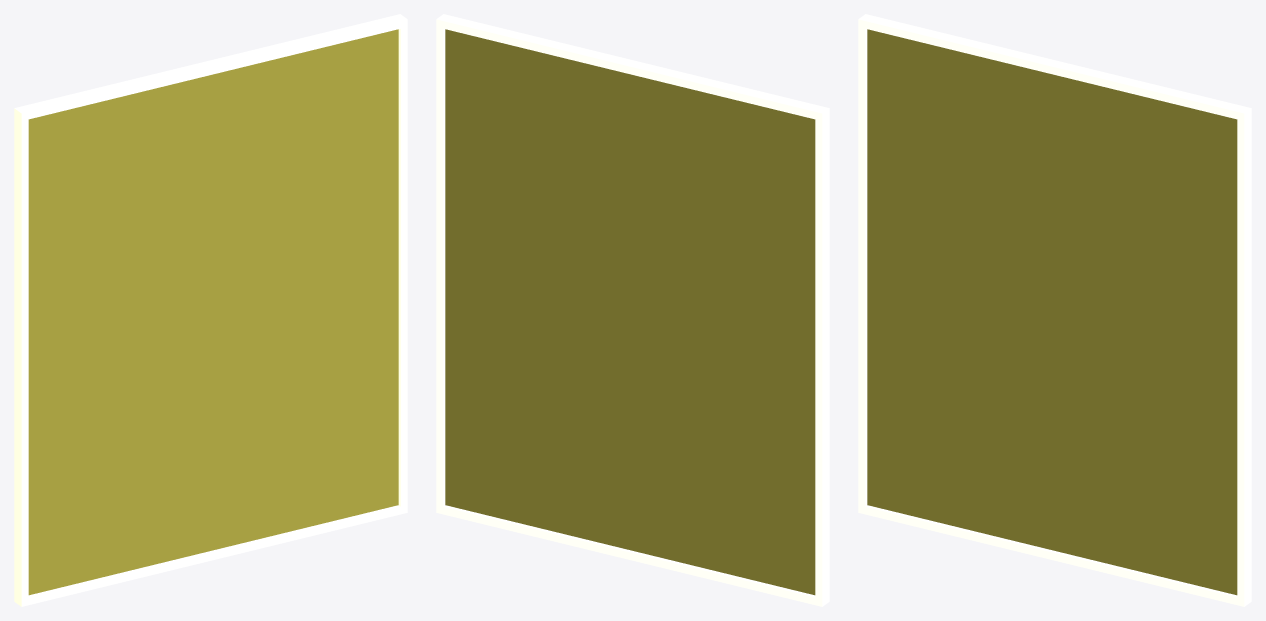
3 renders of one model, left to right at view 1: azimuth 30°, elevation 25°; view 2: azimuth 150°, elevation 25°; view 3: azimuth 330°, elevation 25°, orthographic.
Parts seen in each view (by area): view 1: PainelLuminoso.002; view 2: PainelLuminoso.002; view 3: PainelLuminoso.002.
Boxes of the visible parts, bbox=[...] form: PainelLuminoso.002: bbox=[14, 14, 407, 606]; PainelLuminoso.002: bbox=[436, 14, 829, 606]; PainelLuminoso.002: bbox=[858, 14, 1251, 606].
Bounding box in the file's own units: 214 × 261 × 7.04.
